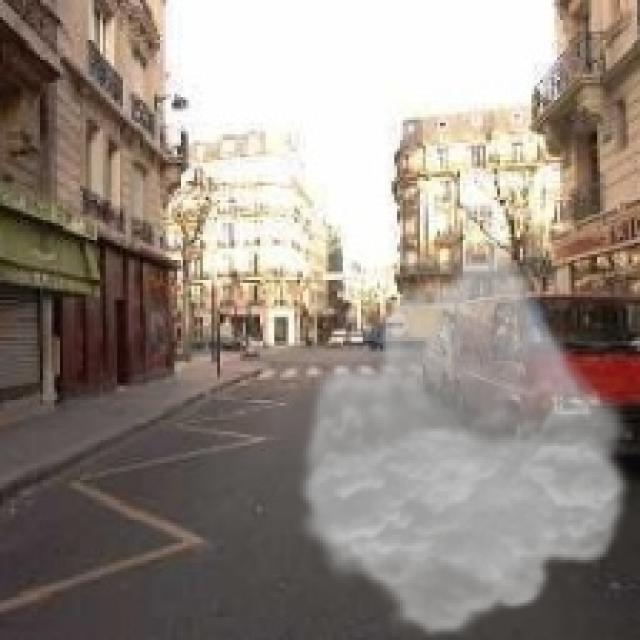smoke: (291, 243, 640, 637)
